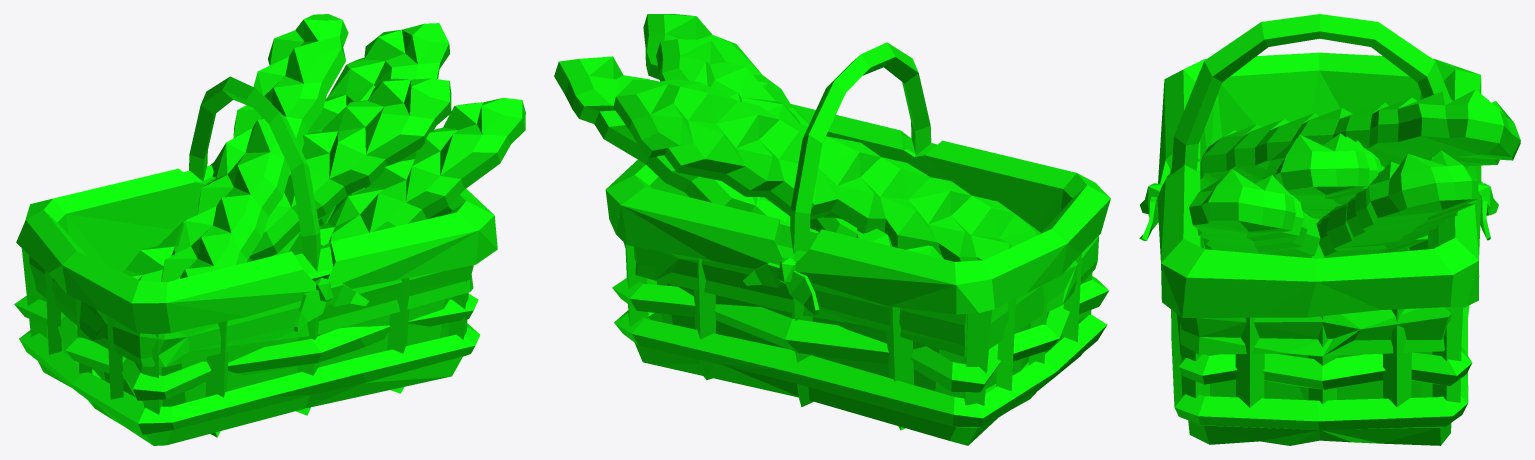
File: SM_Basket_Bread_Braided_Fantasy.fbx
3 views of the same model, side by side, from view 1: azimuth 30°, elevation 25°; view 2: azimuth 150°, elevation 25°; view 3: azimuth 270°, elevation 25° (orthographic). The views are drawn at different scales.
Visible parts, largest first — view 1: basket-bread-braided-fantasy; view 2: basket-bread-braided-fantasy; view 3: basket-bread-braided-fantasy.
Boxes of the visible parts, box(x1,y1,x2,y2) form: basket-bread-braided-fantasy: box(14, 14, 525, 445); basket-bread-braided-fantasy: box(554, 14, 1110, 445); basket-bread-braided-fantasy: box(1139, 14, 1520, 445).
Bounding box in the file's own units: 0.6311 × 0.4076 × 0.4074.
